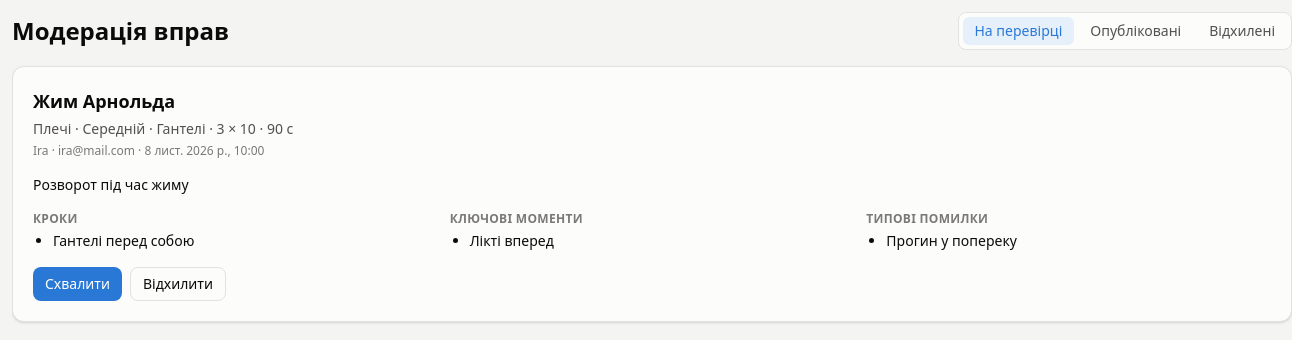
moderation › approve publishes it and the queue reloads
Click the button "Схвалити": (77, 284) [33,267,122,301]
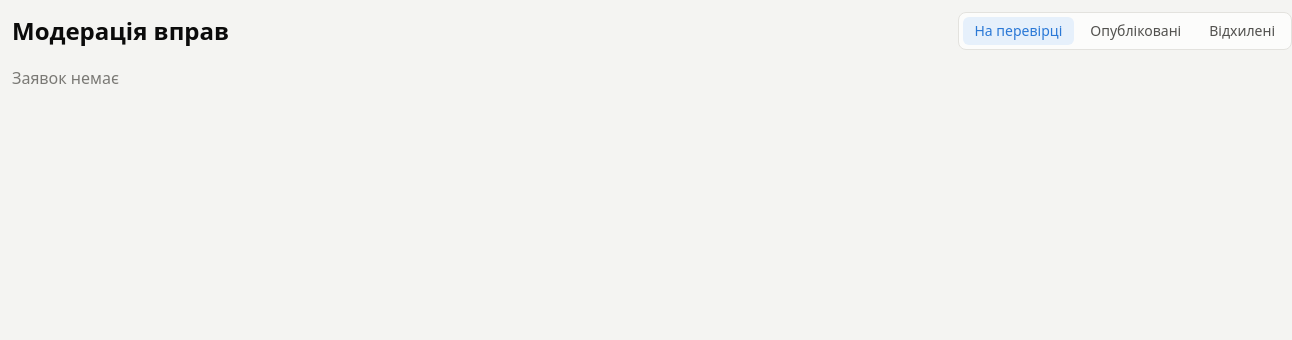
Now the text "Заявок немає" is shown, box [12,67,119,89]
